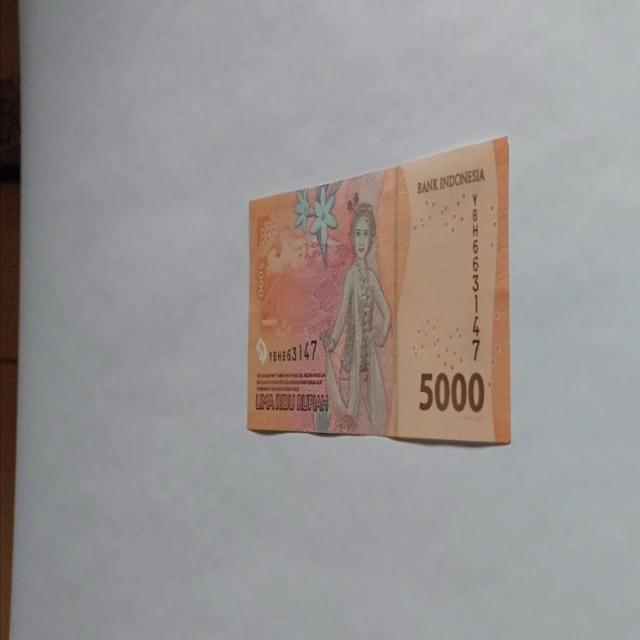lima ribu rupiah: (245, 134, 510, 446), (318, 202, 392, 434)
